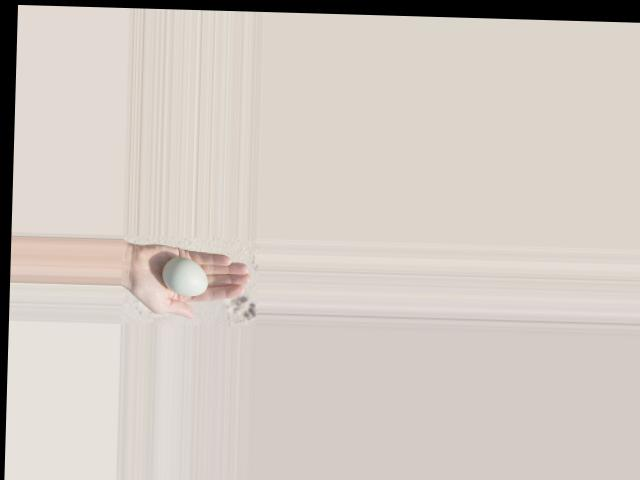egg: (163, 256, 208, 295)
